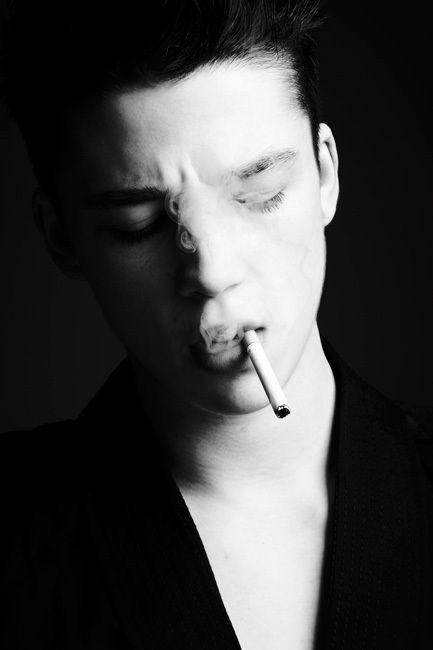cigarette: (239, 330, 291, 419)
